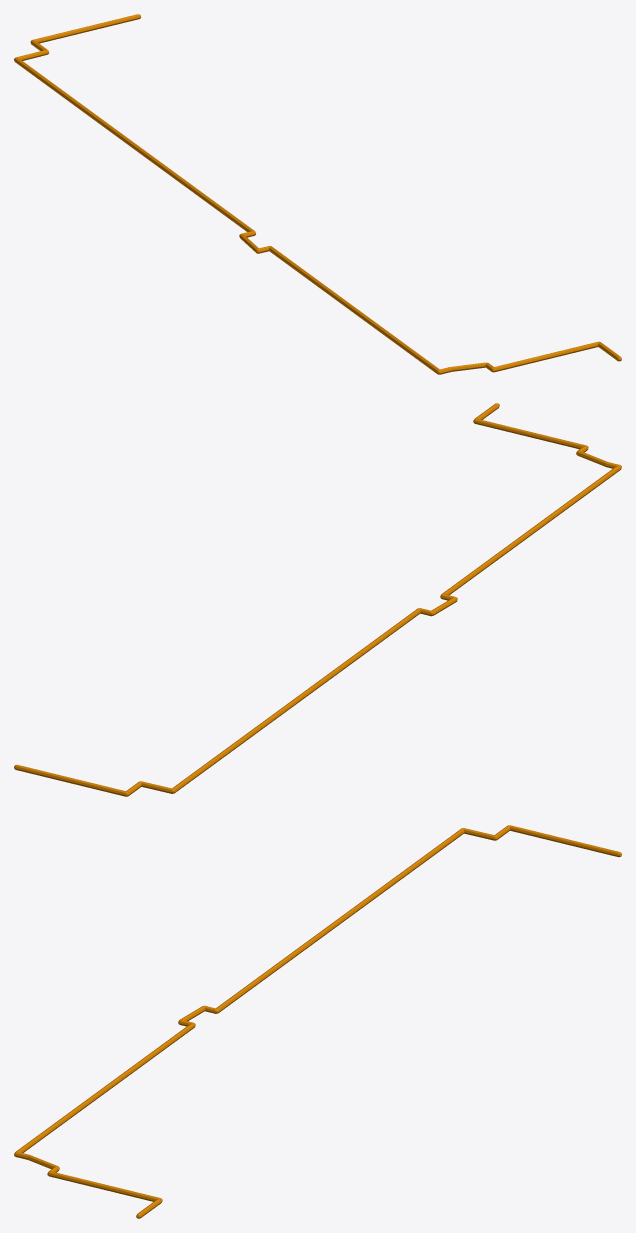
3 views of the same model, one above another, from view 1: azimuth 30°, elevation 25°; view 2: azimuth 150°, elevation 25°; view 3: azimuth 330°, elevation 25° (orthographic). The views are drawn at different scales.
Bounding box in the file's own units: 704 × 20 × 3498.
